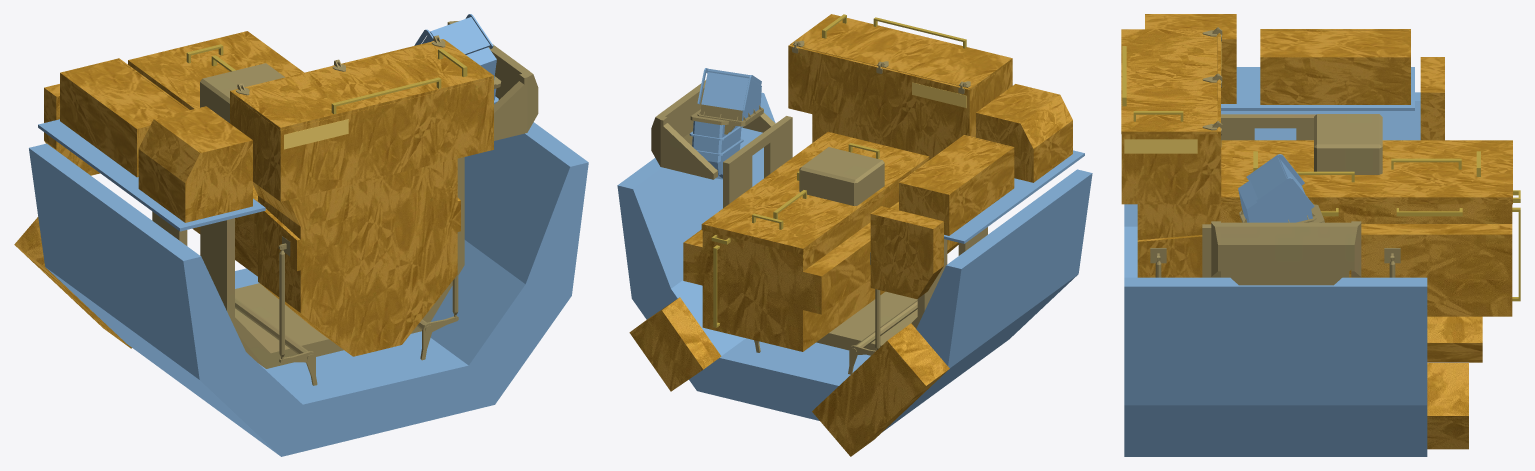
The model's file is cleanroom-oru.glb.
3 renders of one model, left to right at view 1: azimuth 30°, elevation 25°; view 2: azimuth 150°, elevation 25°; view 3: azimuth 270°, elevation 25°, orthographic. The views are drawn at different scales.
Visible parts, largest first — view 1: spaceshutt; view 2: spaceshutt; view 3: spaceshutt.
Part boxes in pixels (<box>): spaceshutt: <box>14,14,588,456</box>; spaceshutt: <box>617,14,1092,456</box>; spaceshutt: <box>1121,14,1520,456</box>.
Bounding box in the file's own units: 1.72 × 1.4 × 1.49.
Materials: 4 (2 with a texture image).
